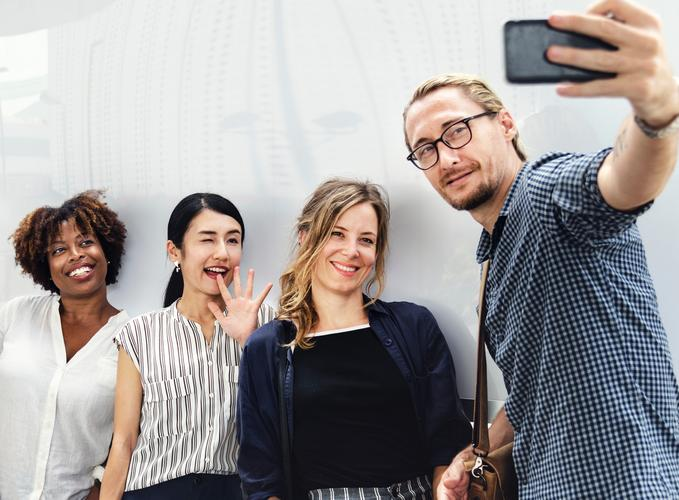no-phone: (205, 265, 273, 340)
taking photos: (502, 2, 676, 115)
